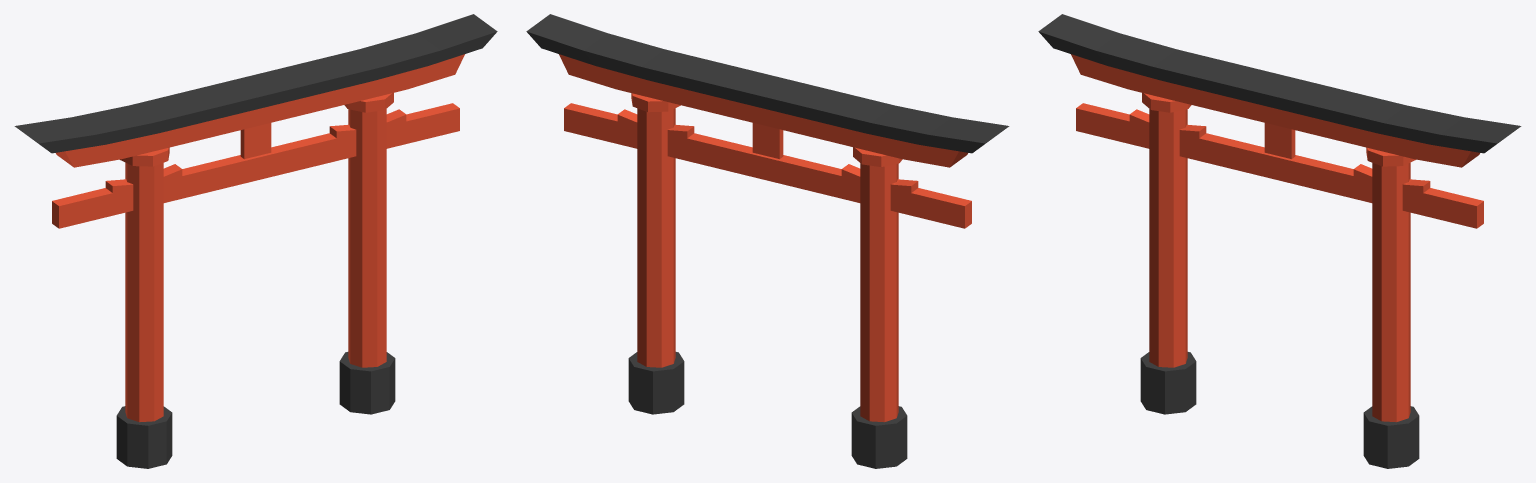
The model's file is shrine.fbx.
The picture shows the model from 3 angles, left to right: view 1: azimuth 30°, elevation 25°; view 2: azimuth 150°, elevation 25°; view 3: azimuth 330°, elevation 25°; orthographic projection.
Visible parts, largest first — view 1: Cylinder.001, Cube.001, Cube.002, Cube, Cylinder.002, Cube.004, Cylinder, Cube.003; view 2: Cylinder.001, Cube.001, Cube.002, Cube, Cylinder.002, Cube.004, Cylinder, Cube.003; view 3: Cylinder.001, Cube.001, Cube.002, Cube, Cylinder.002, Cube.004, Cylinder, Cube.003.
Part boxes in pixels (bbox=[...]): Cylinder.001: bbox=[125, 97, 386, 422]; Cube.001: bbox=[14, 14, 497, 153]; Cube.002: bbox=[52, 103, 459, 228]; Cube: bbox=[56, 54, 464, 167]; Cylinder.002: bbox=[116, 352, 395, 468]; Cube.004: bbox=[105, 109, 406, 208]; Cylinder: bbox=[120, 93, 393, 166]; Cube.003: bbox=[240, 123, 271, 159]; Cylinder.001: bbox=[637, 96, 898, 422]; Cube.001: bbox=[526, 14, 1009, 153]; Cube.002: bbox=[564, 103, 971, 228]; Cube: bbox=[559, 54, 967, 167]; Cylinder.002: bbox=[628, 352, 907, 468]; Cube.004: bbox=[617, 109, 918, 192]; Cylinder: bbox=[631, 93, 902, 166]; Cube.003: bbox=[752, 123, 783, 159]; Cylinder.001: bbox=[1149, 98, 1410, 422]; Cube.001: bbox=[1038, 14, 1521, 153]; Cube.002: bbox=[1076, 103, 1483, 228]; Cube: bbox=[1071, 54, 1479, 167]; Cylinder.002: bbox=[1140, 352, 1419, 468]; Cube.004: bbox=[1129, 109, 1430, 192]; Cylinder: bbox=[1142, 93, 1415, 166]; Cube.003: bbox=[1264, 123, 1295, 159].
Bounding box in the file's own units: 2880 × 2104 × 283.
